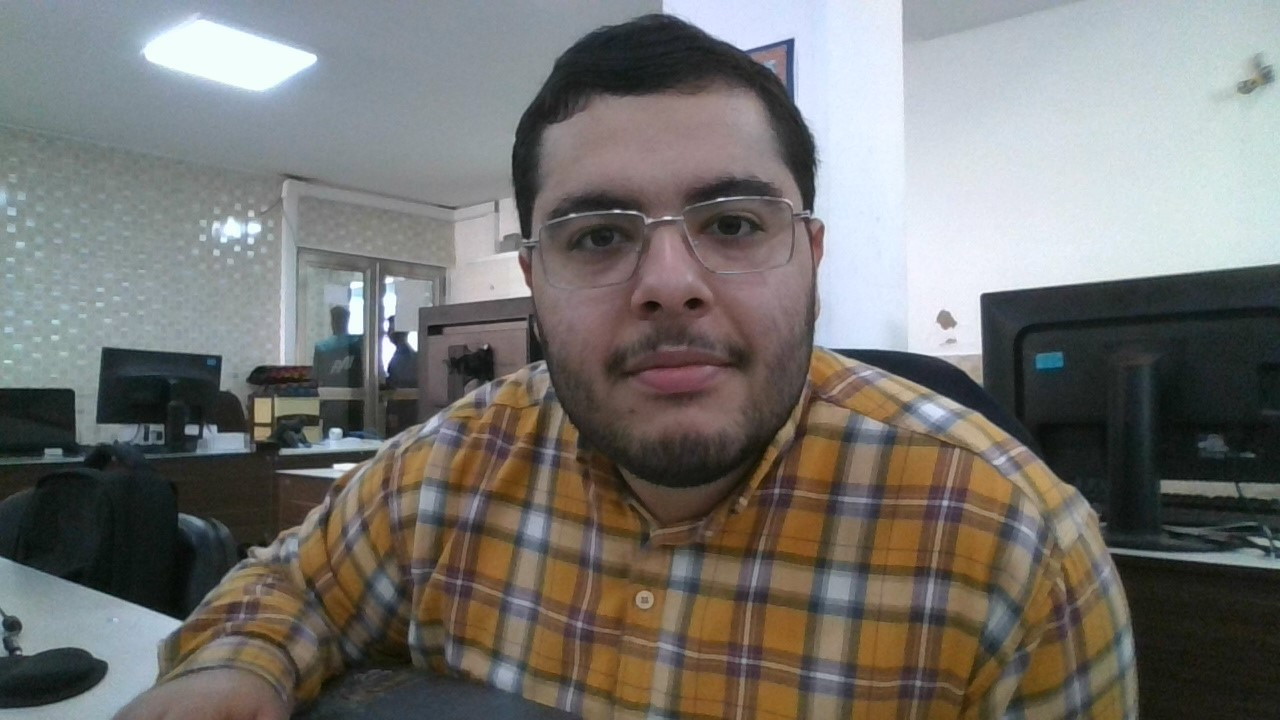NoMask: (532, 274, 817, 480)
